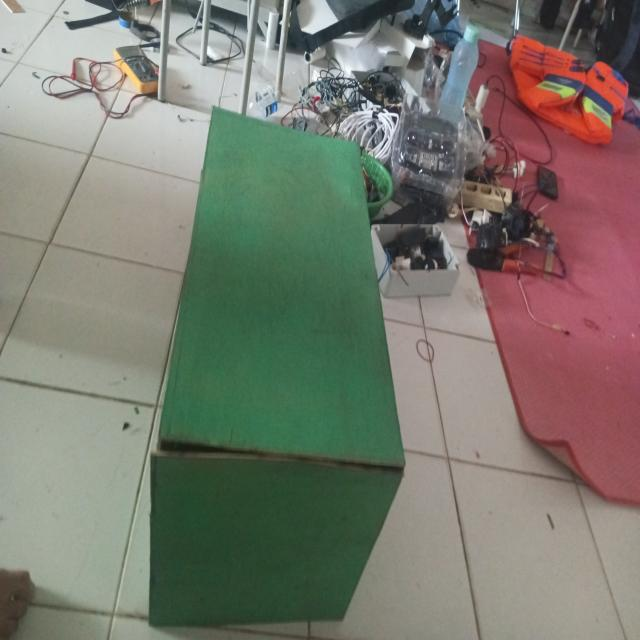green_box: (144, 103, 406, 619)
